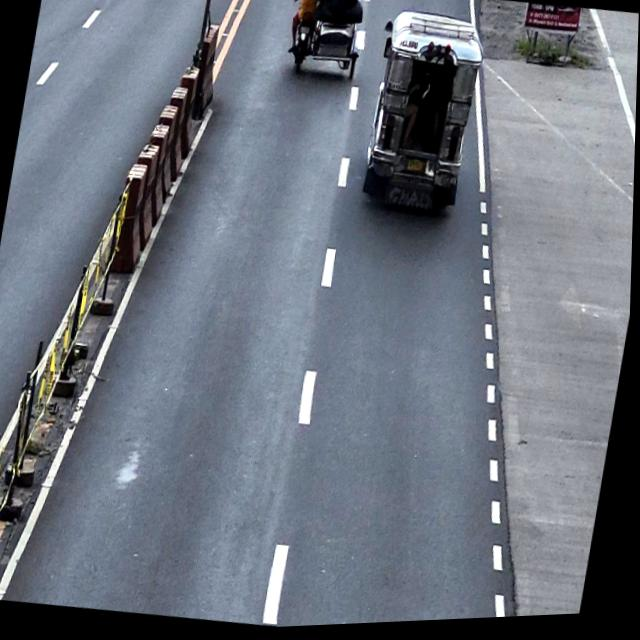Jeep: (354, 6, 491, 226)
License-Plate: (407, 160, 427, 178), (299, 28, 311, 38)
Tricycle: (280, 0, 371, 87)
